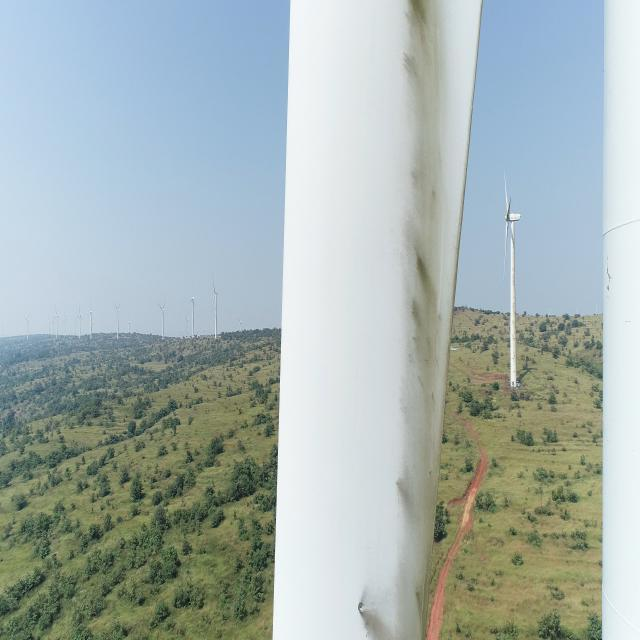Dirt: (344, 0, 484, 640)
